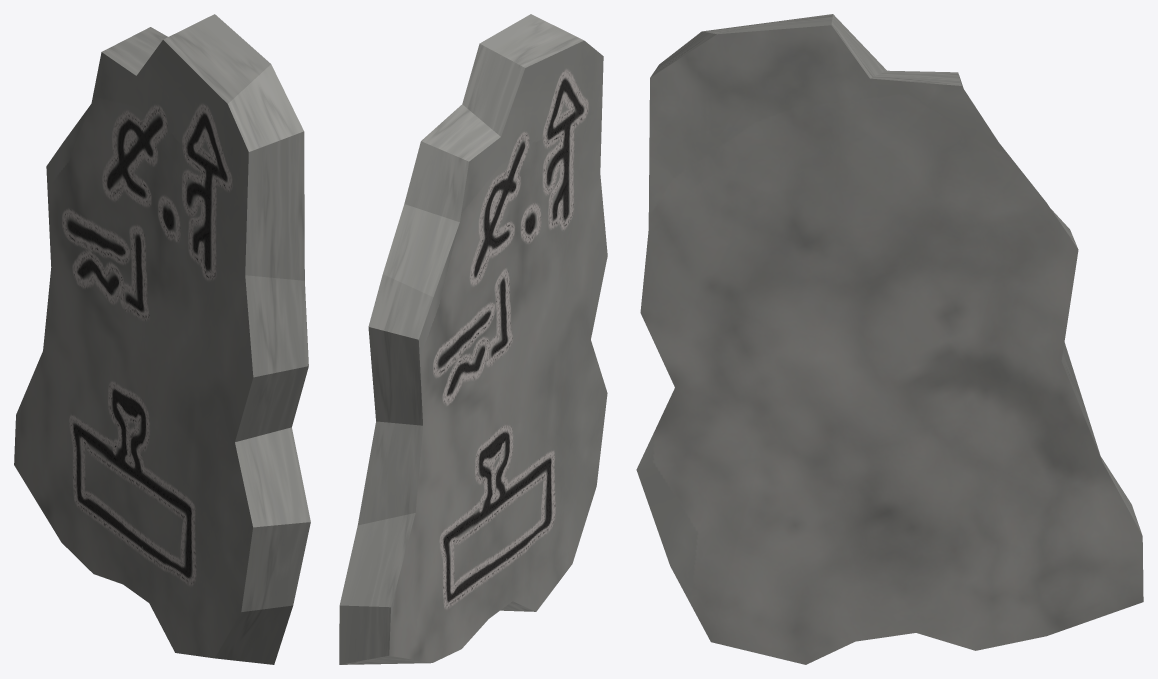
File: StoneTablet3.fbx
The picture shows the model from 3 angles, left to right: view 1: azimuth 30°, elevation 25°; view 2: azimuth 150°, elevation 25°; view 3: azimuth 270°, elevation 25°; orthographic projection. The views are drawn at different scales.
Parts seen in each view (by area): view 1: Tablet3.003; view 2: Tablet3.003; view 3: Tablet3.003.
Part boxes in pixels (bbox=[...]): Tablet3.003: bbox=[14, 14, 310, 664]; Tablet3.003: bbox=[339, 14, 607, 664]; Tablet3.003: bbox=[636, 14, 1143, 664].
Size of the model in its own units: 16.86 by 199 by 143.
1 material, 1 textured.
